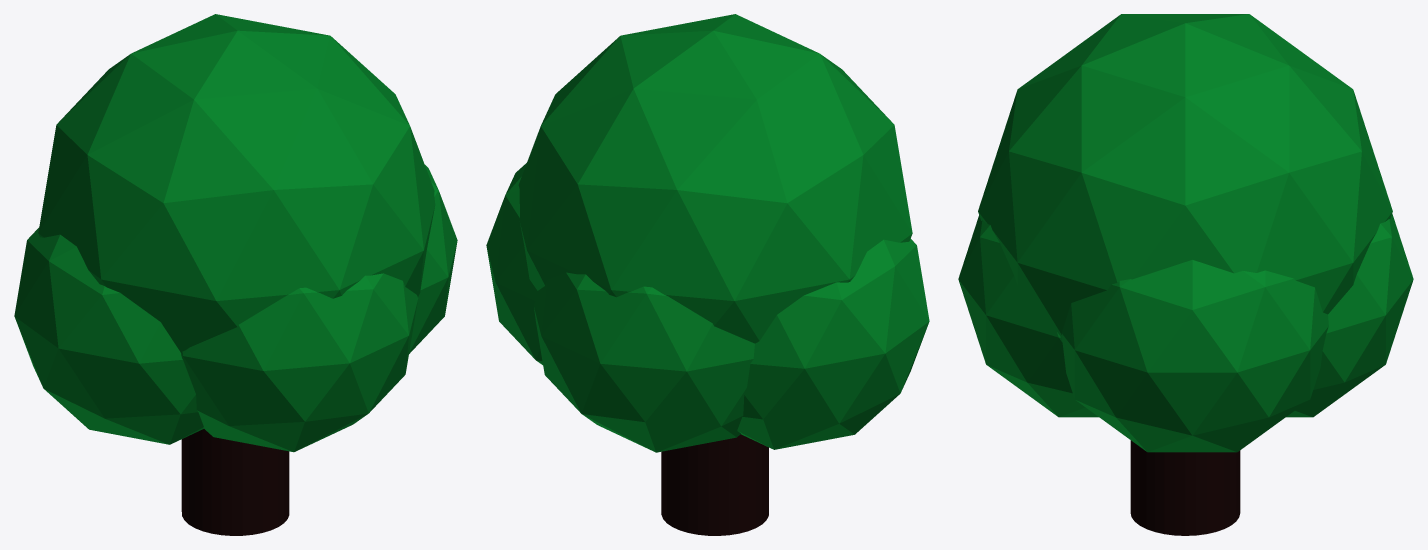
The model's file is Low_Low_Leaf_Tree.glb.
The picture shows the model from 3 angles, left to right: view 1: azimuth 30°, elevation 25°; view 2: azimuth 150°, elevation 25°; view 3: azimuth 270°, elevation 25°; orthographic projection.
Parts seen in each view (by area): view 1: Icosphere, Icosphere.004, Icosphere.001, Cylinder, Icosphere.002; view 2: Icosphere, Icosphere.003, Icosphere.001, Cylinder, Icosphere.002; view 3: Icosphere, Icosphere.002, Icosphere.004, Icosphere.003, Cylinder.
Part boxes in pixels (x1=…): Icosphere: x1=38, y1=14, x2=435, y2=352; Icosphere.004: x1=181, y1=273, x2=418, y2=452; Icosphere.001: x1=14, y1=227, x2=203, y2=444; Cylinder: x1=181, y1=429, x2=289, y2=535; Icosphere.002: x1=409, y1=165, x2=457, y2=353; Icosphere: x1=518, y1=14, x2=912, y2=343; Icosphere.003: x1=534, y1=272, x2=754, y2=452; Icosphere.001: x1=737, y1=239, x2=929, y2=449; Cylinder: x1=661, y1=434, x2=768, y2=535; Icosphere.002: x1=486, y1=163, x2=542, y2=364; Icosphere: x1=978, y1=14, x2=1392, y2=340; Icosphere.002: x1=1061, y1=260, x2=1328, y2=452; Icosphere.004: x1=958, y1=215, x2=1098, y2=417; Icosphere.003: x1=1286, y1=214, x2=1413, y2=417; Cylinder: x1=1130, y1=440, x2=1240, y2=535.
Size of the model in its own units: 8.54 by 9.86 by 8.29.
